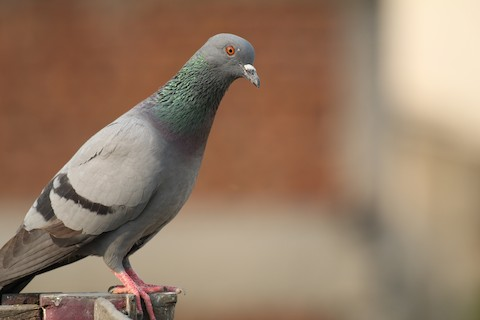pigeon: (4, 30, 266, 310)
